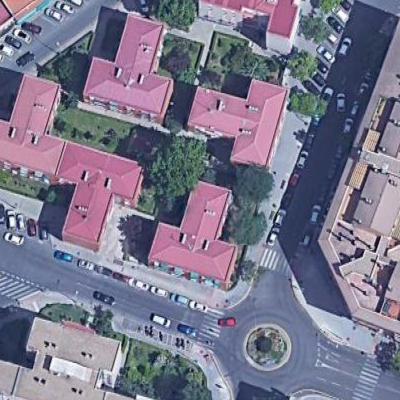tree: (151, 140, 207, 203), (232, 163, 274, 204), (228, 207, 269, 248), (287, 89, 328, 124), (157, 1, 200, 34), (299, 12, 338, 48), (287, 52, 317, 84), (228, 46, 258, 76)
